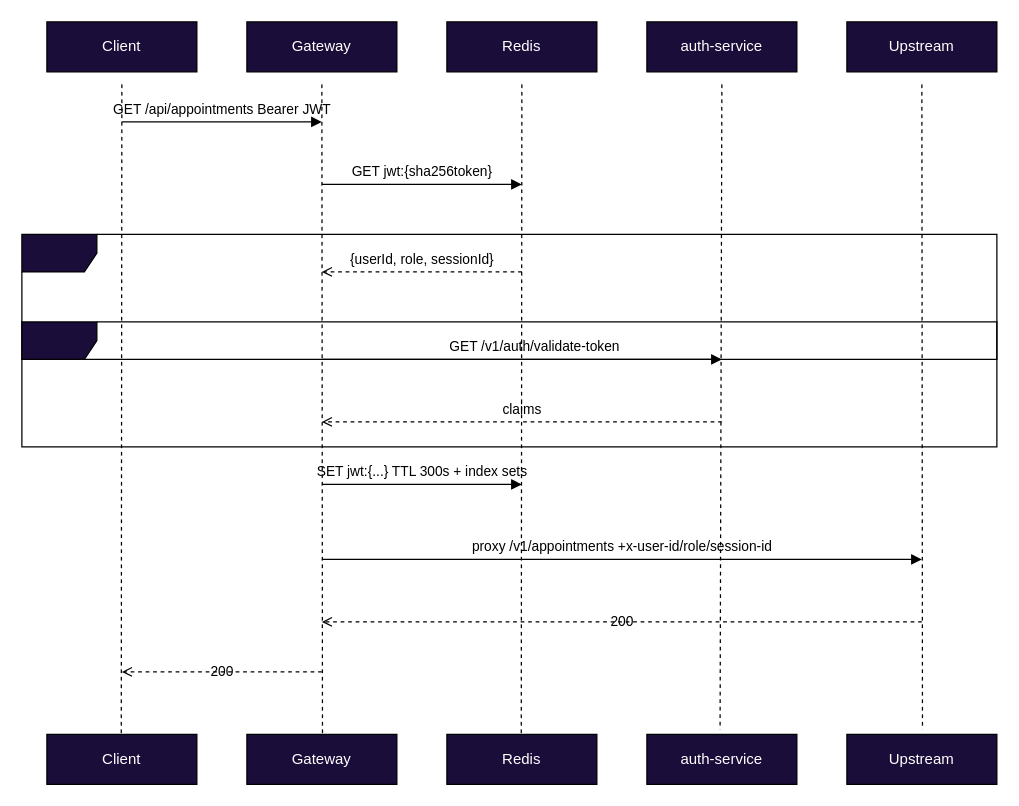
The diagram is 1019 pixels wide and 806 high, and some of its shapes have lost their labels. Each missing label, with the centre of its shape:
"cache hit" belongs at [509,296].
"else miss" belongs at [509,384].
